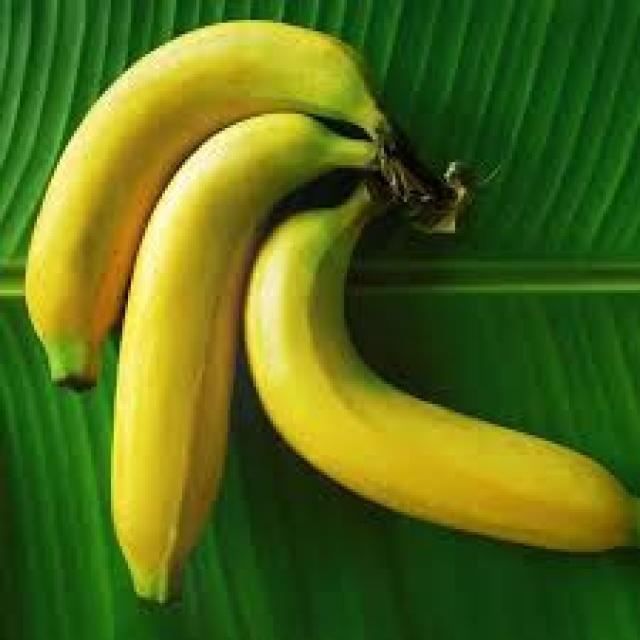Banana: (22, 17, 638, 606)
